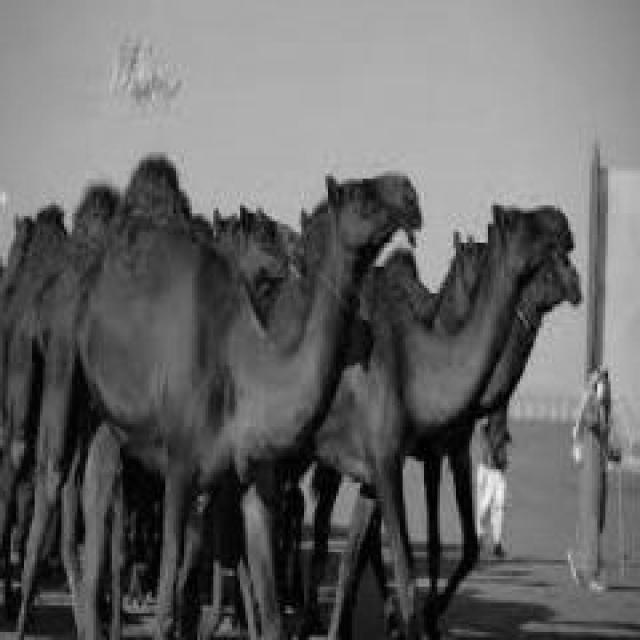Camel: (0, 151, 421, 637), (296, 200, 581, 637)
